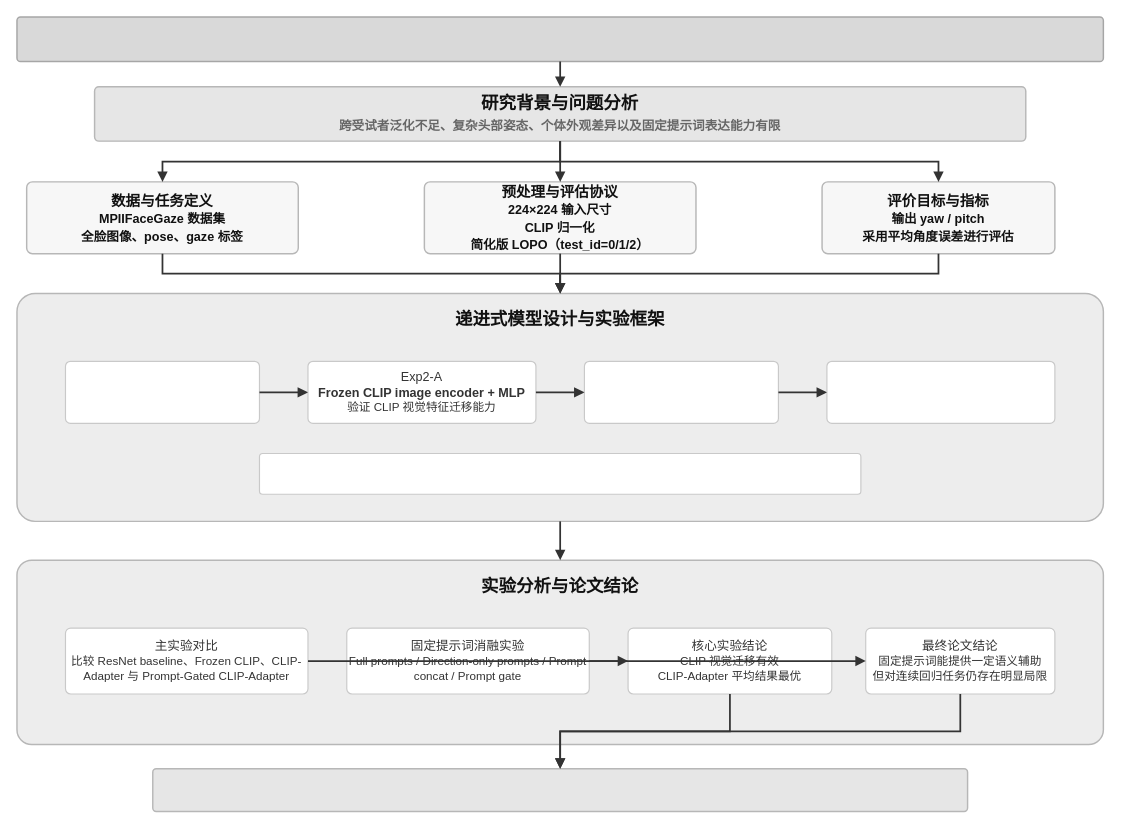
Image size: 1121x829. Some labels were removed from this diagram. Each missing label, with the centre of its shape:
"Exp1 ResNet baseline 构建传统视觉基线" goes at pixel 162 392.
"Exp2-B CLIP-Adapter 引入轻量特征适配模块 提升任务适配能力" goes at pixel 681 392.
"Exp3 Prompt-Gated CLIP-Adapter 利用固定提示词与门控机制 探索语义辅助作用" goes at pixel 940 392.
"基于 CLIP 与提示词的三维注视估计技术路线图" goes at pixel 560 39.
"总体研究逻辑：数据集与协议设置 → 递进式模型设计 → 主实验与消融分析 → 结论与展望" goes at pixel 560 790.
"统一训练设置：15 个 epoch · Adam 优化器 · L1 损失 · 相同数据划分" goes at pixel 559 473.
